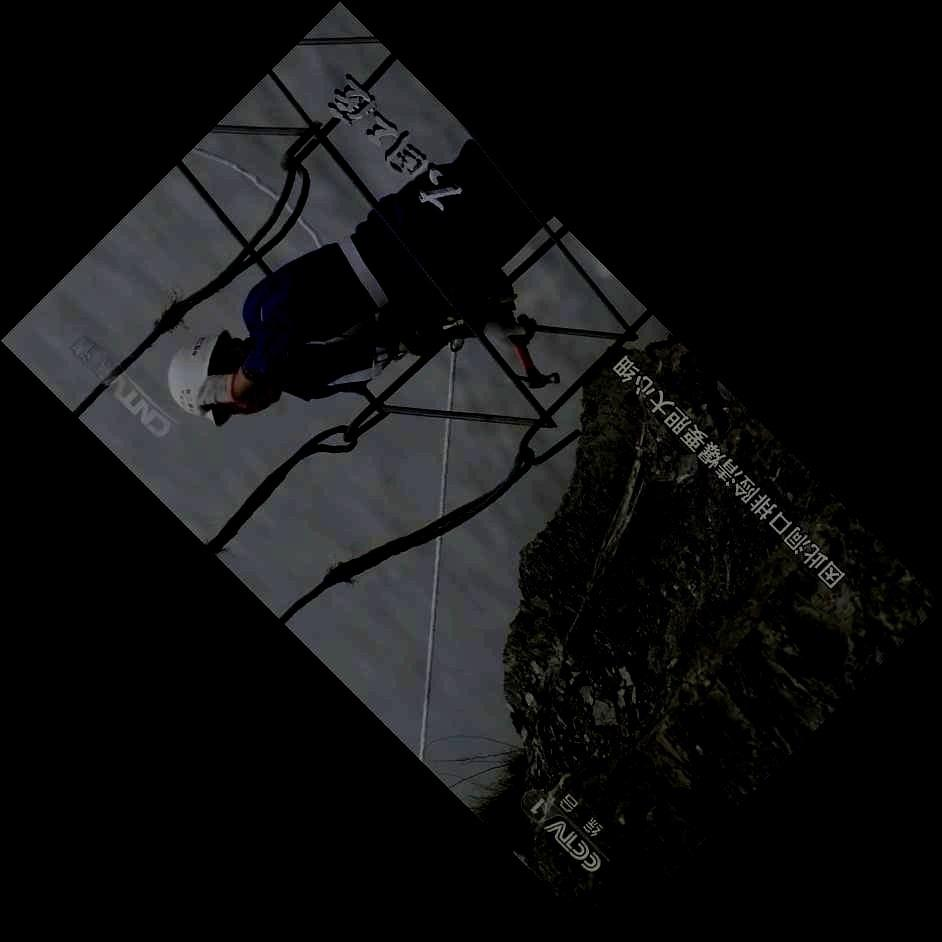helmet: (166, 328, 283, 427)
